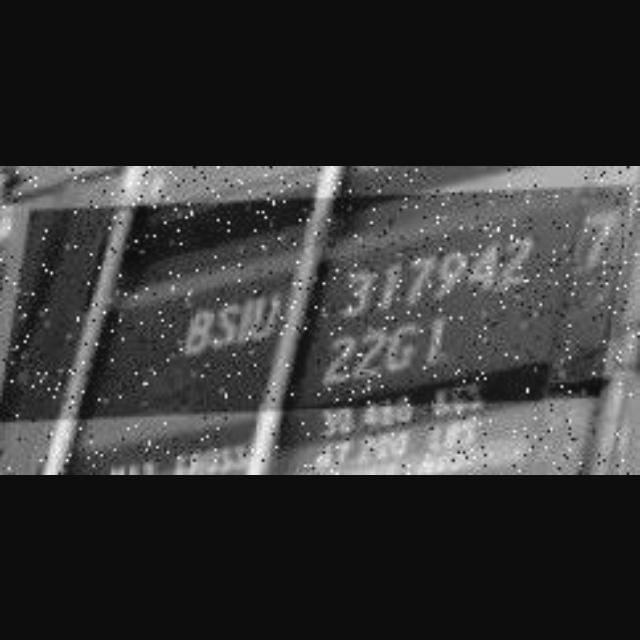1: (379, 260, 401, 312)
2: (500, 232, 538, 292), (420, 314, 454, 374), (323, 332, 355, 388), (357, 326, 387, 384)
3: (340, 266, 374, 320), (316, 409, 339, 445), (338, 404, 354, 438)
4: (468, 244, 499, 296), (361, 401, 379, 432)
6: (386, 318, 419, 380)
7: (584, 206, 624, 272), (405, 254, 437, 308)
9: (436, 248, 469, 310)
b: (181, 304, 213, 356)
i: (240, 295, 253, 345)
s: (215, 298, 241, 350)
u: (252, 288, 282, 344)
